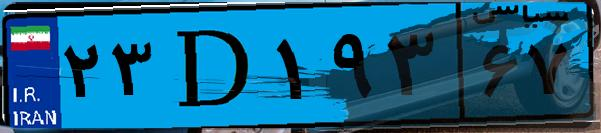1: (270, 28, 330, 110)
2: (57, 26, 110, 100)
3: (385, 28, 445, 110), (110, 28, 158, 98)
6: (475, 38, 525, 113)
7: (525, 38, 570, 115)
9: (330, 28, 385, 110)
D: (158, 12, 270, 120)
